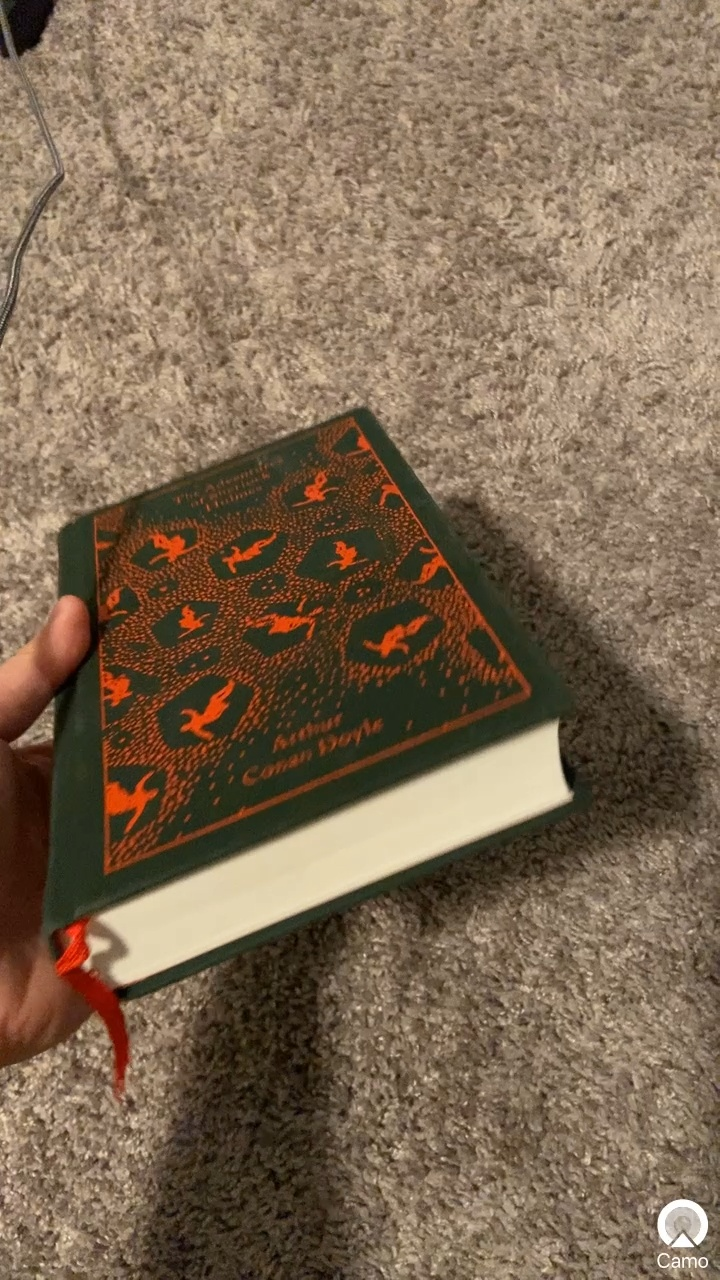Book: (26, 394, 605, 1055)
